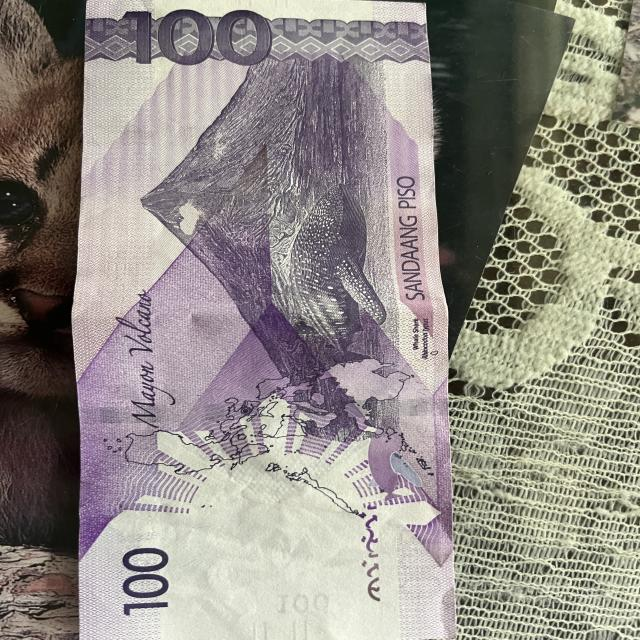security_thread: (77, 398, 450, 422)
see_through_mark: (359, 497, 388, 604)
value_watermark: (274, 591, 331, 616)
